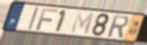1: (54, 9, 68, 33)
8: (90, 13, 110, 38)
F: (35, 8, 60, 32)
I: (27, 6, 40, 32)
M: (69, 11, 95, 36)
R: (106, 14, 130, 39)
